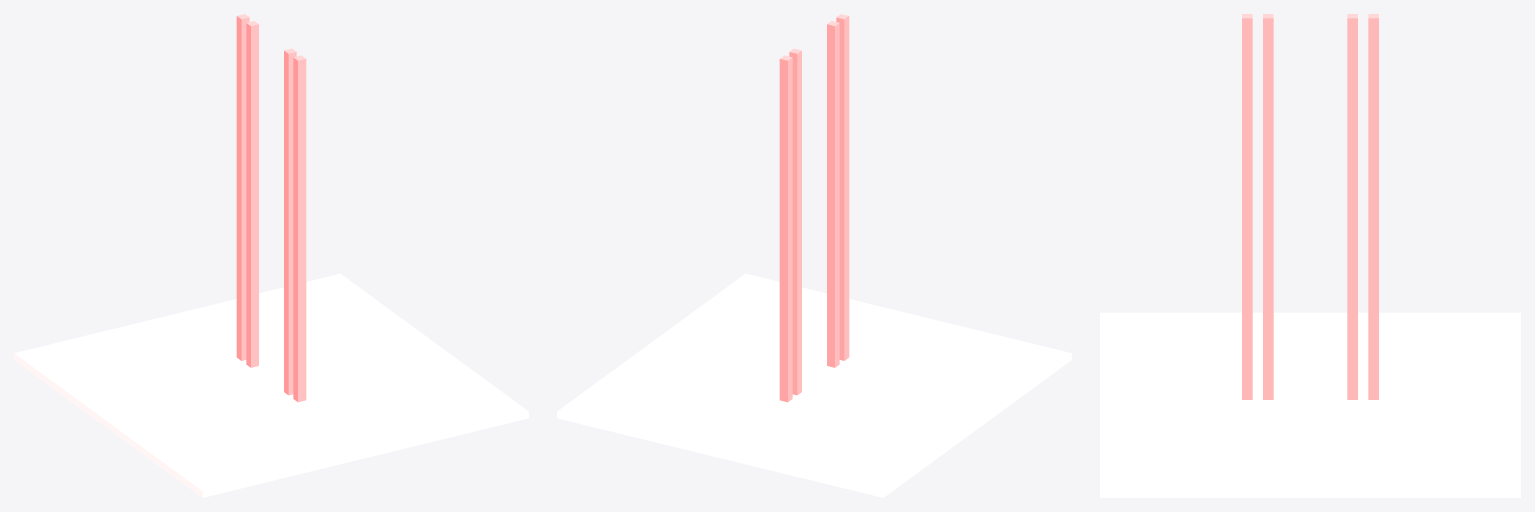
3 views of the same model, side by side, from view 1: azimuth 30°, elevation 25°; view 2: azimuth 150°, elevation 25°; view 3: azimuth 270°, elevation 25° (orthographic). The views are drawn at different scales.
Parts seen in each view (by area): view 1: Floor, Elevator Shaft 4, Elevator Shaft 2, Elevator Shaft 1, Elevator Shaft 3; view 2: Floor, Elevator Shaft 1, Elevator Shaft 3, Elevator Shaft 4, Elevator Shaft 2; view 3: Floor, Elevator Shaft 1, Elevator Shaft 2, Elevator Shaft 3, Elevator Shaft 4.
Boxes of the visible parts, x1,y1,x2,y2 form: Floor: (14,273,528,497); Elevator Shaft 4: (293,55,306,402); Elevator Shaft 2: (246,21,258,367); Elevator Shaft 1: (236,14,249,360); Elevator Shaft 3: (284,48,296,395); Floor: (557,273,1071,497); Elevator Shaft 1: (779,55,792,402); Elevator Shaft 3: (827,21,839,367); Elevator Shaft 4: (836,14,849,360); Elevator Shaft 2: (789,48,801,395); Floor: (1100,312,1520,497); Elevator Shaft 1: (1368,14,1378,399); Elevator Shaft 2: (1347,14,1357,399); Elevator Shaft 3: (1263,14,1273,399); Elevator Shaft 4: (1242,14,1252,399).
Bounding box in the file's own units: 10 × 10.3 × 10.
